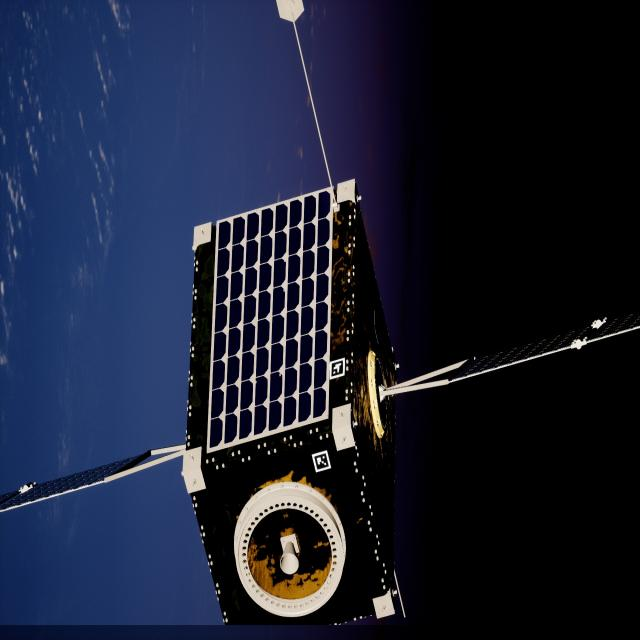medium_debris: (0, 181, 640, 627)
